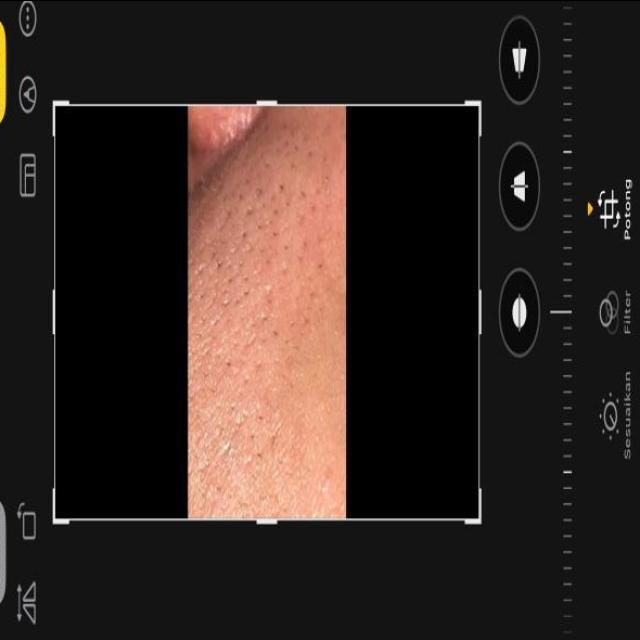blackhead: (207, 129, 318, 418)
